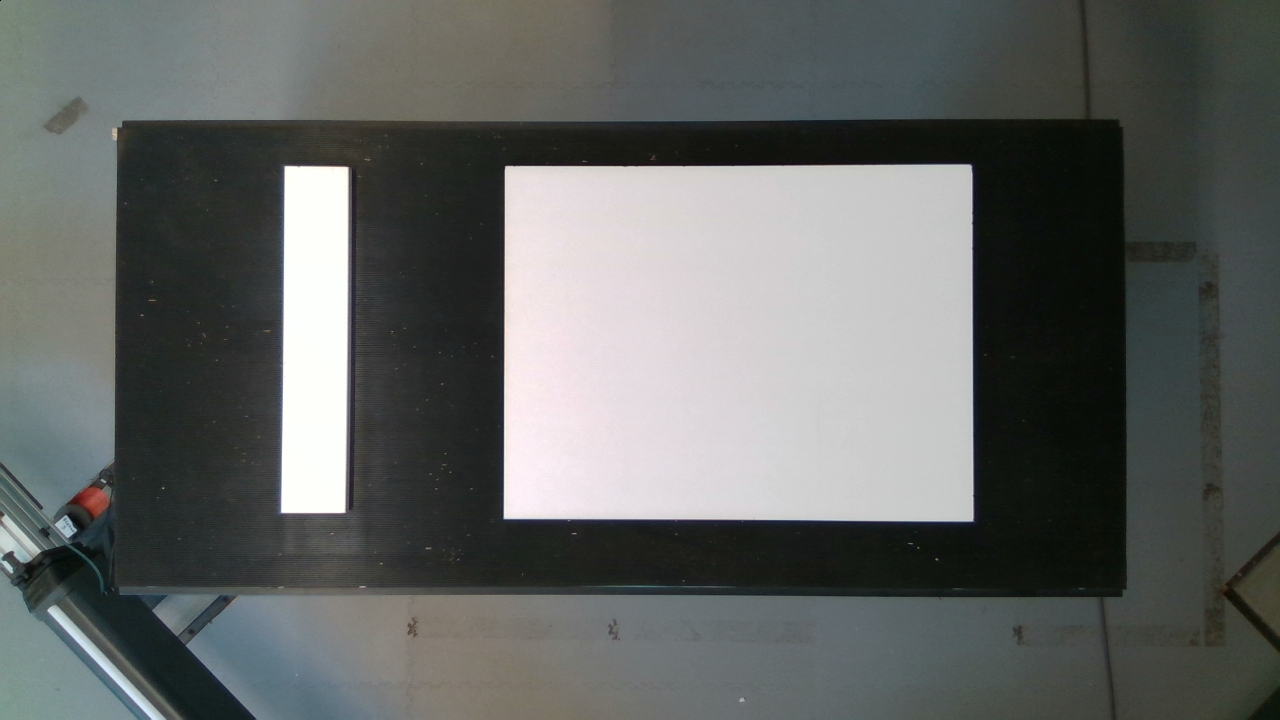part1: (270, 152, 370, 532)
part2: (489, 155, 990, 532)
